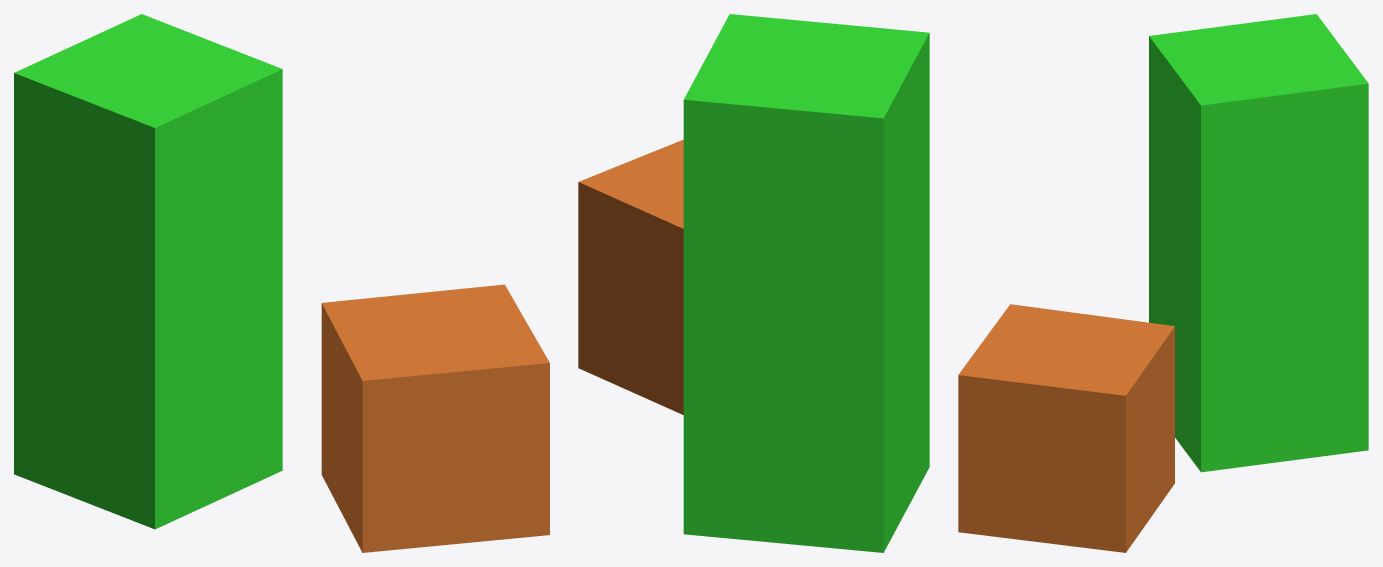
3 renders of one model, left to right at view 1: azimuth 30°, elevation 25°; view 2: azimuth 150°, elevation 25°; view 3: azimuth 270°, elevation 25°, orthographic. The views are drawn at different scales.
Parts seen in each view (by area): view 1: shortBox, object 3; view 2: shortBox, object 3; view 3: shortBox, object 3.
Boxes of the visible parts, x1,y1,x2,y2 form: shortBox: (14,14,282,529); object 3: (321,284,549,552); shortBox: (683,14,929,552); object 3: (578,139,683,414); shortBox: (1149,14,1368,472); object 3: (958,304,1174,552).
Size of the model in its own units: 1.41 by 1.4 by 1.42.
